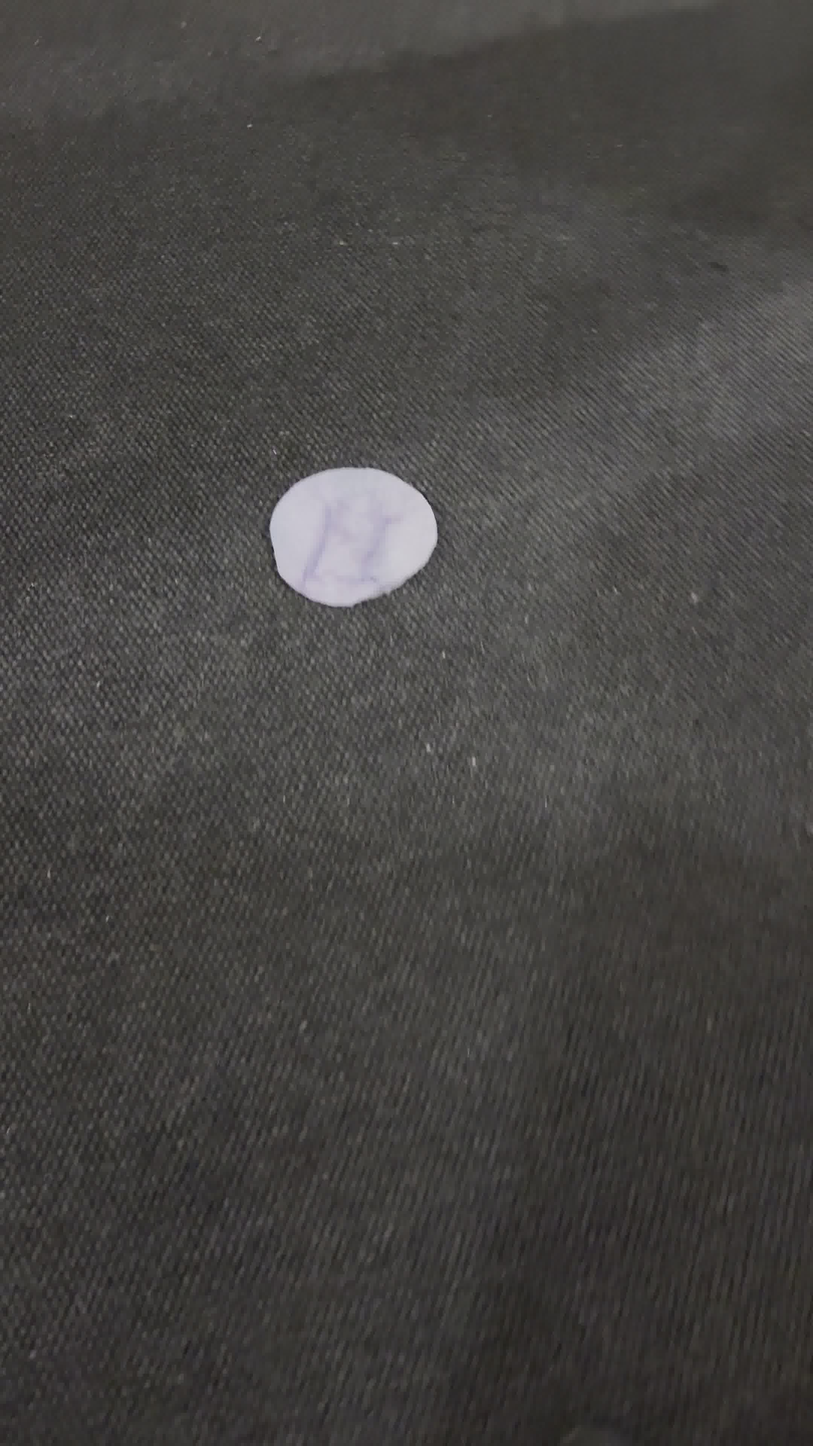Target: (269, 468, 435, 607)
